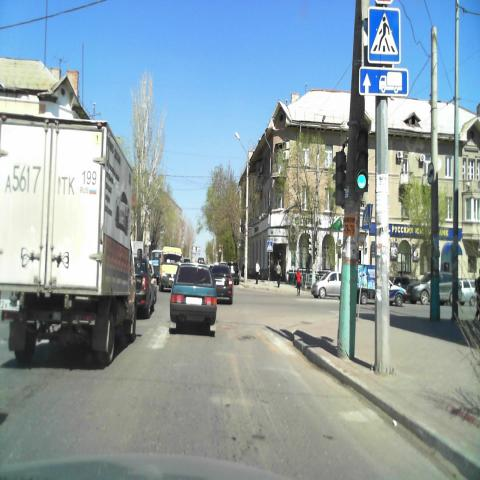6_15_1: (359, 66, 409, 96)
